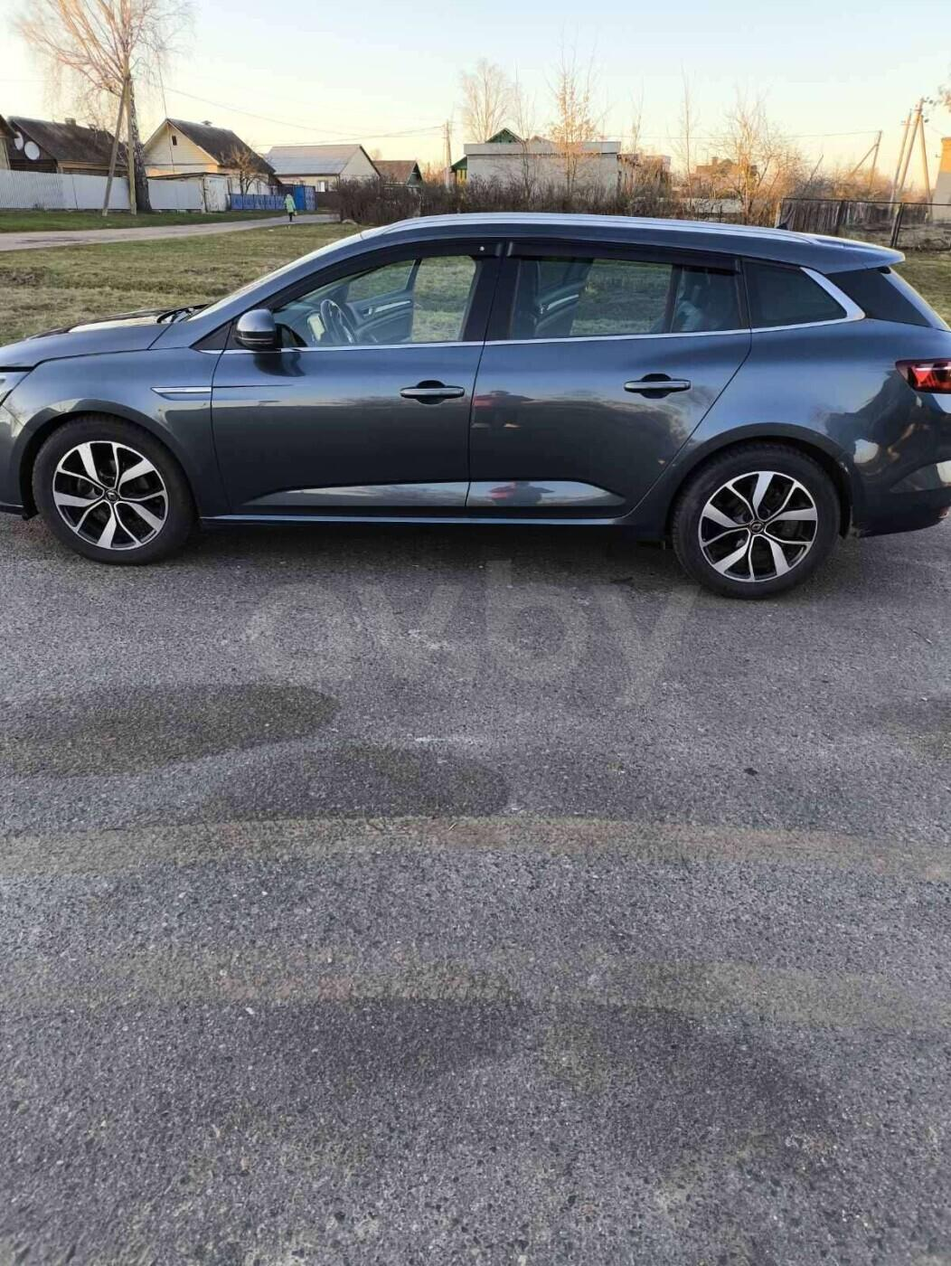Megane_2016-2020: (0, 201, 951, 622)
